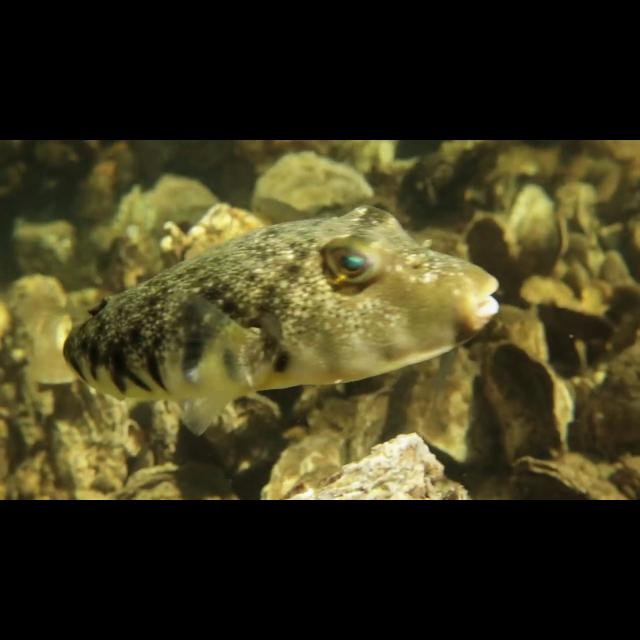Oyster-Closed: (485, 341, 577, 459), (461, 212, 522, 288), (503, 185, 553, 242), (538, 214, 574, 277)
Oyster-Open: (500, 457, 615, 500)
